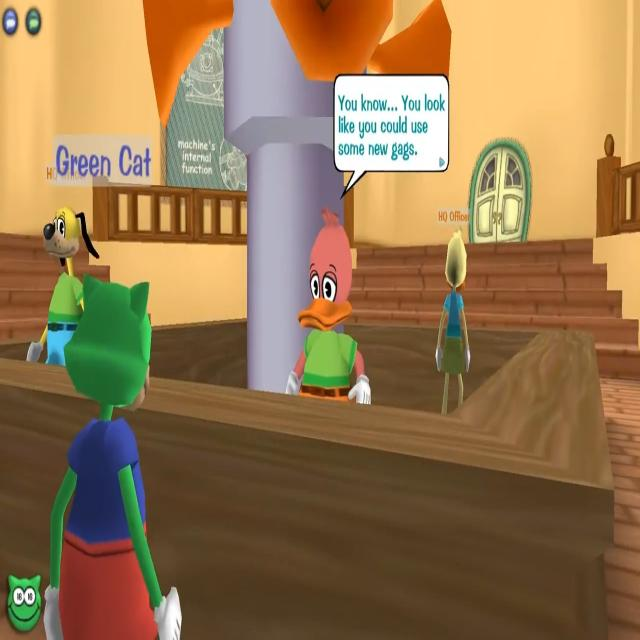npc: (284, 155, 382, 430), (26, 156, 89, 369), (424, 204, 480, 416)
